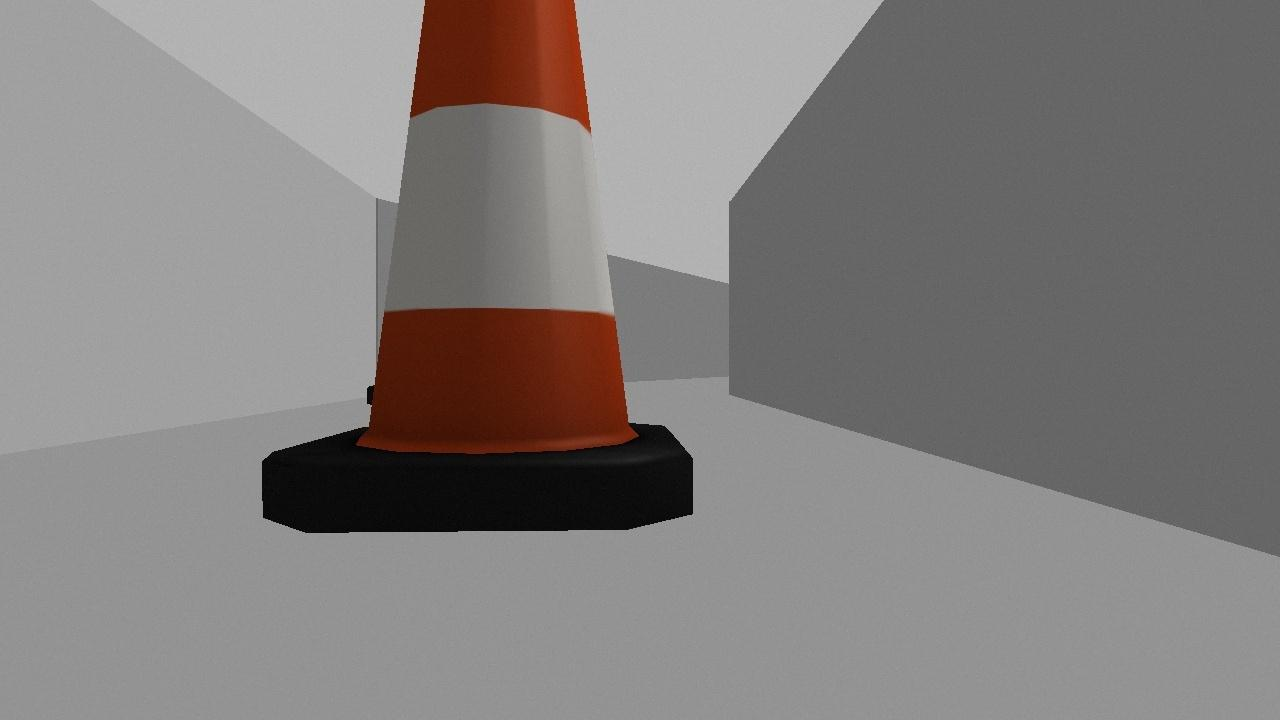cone_barrel: (242, 0, 724, 544)
